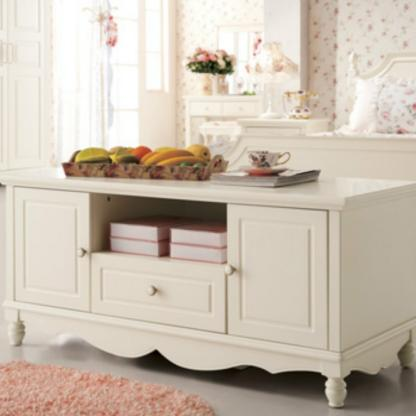TV stand: (0, 160, 413, 408)
